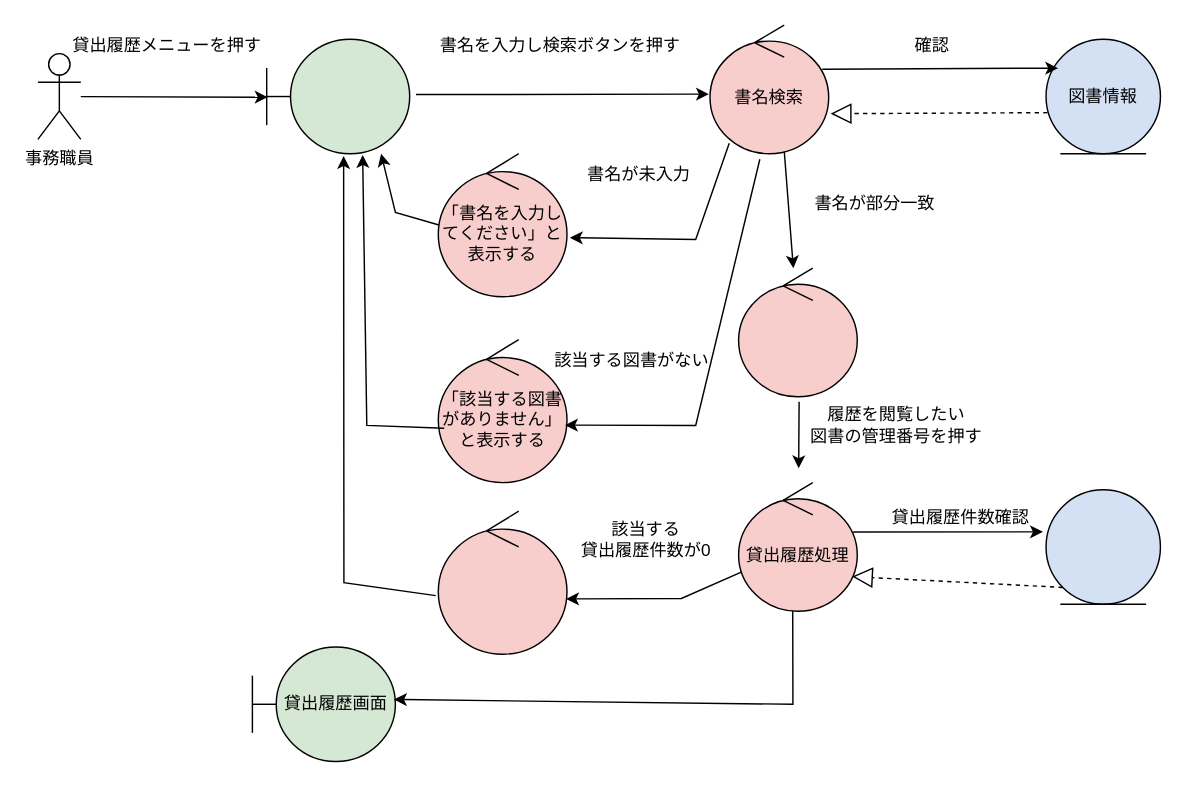
Some shapes in this 1185 by 787 pixel diagram are drawn without their labels. The shapes that lost their labels are listed below. From the top down, each one's centre as x and y in pixels, then its label:
At point (337, 96): "貸出履歴メニュー画面".
At point (797, 332): "一致する図書の 一覧表示".
At point (1102, 546): "貸出情報".
At point (502, 582): "「貸出履歴がありません」 と表示する".
